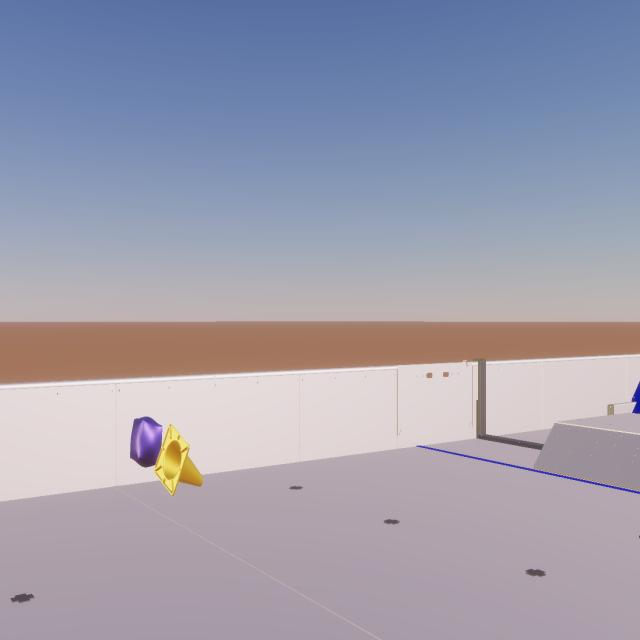frc_cone: (154, 423, 203, 496)
frc_cube: (130, 417, 162, 468)
